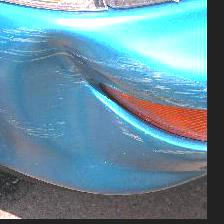bumper_dent: (0, 21, 144, 164)
